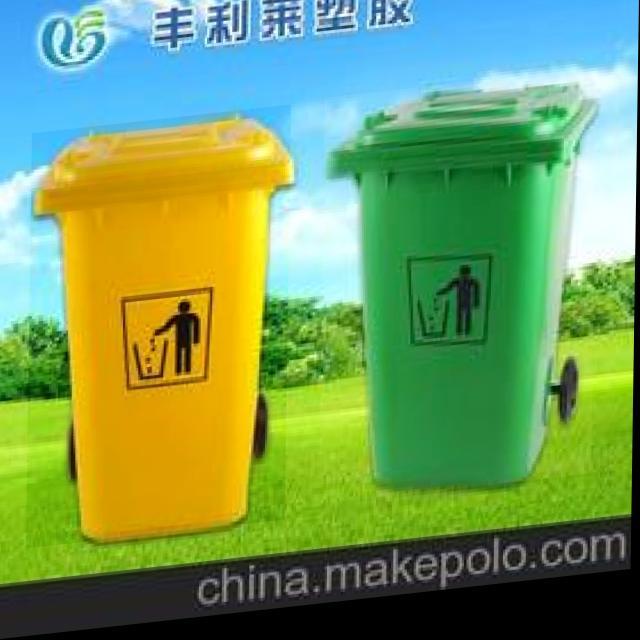garbage_bin: (321, 82, 597, 511), (28, 112, 291, 549)
